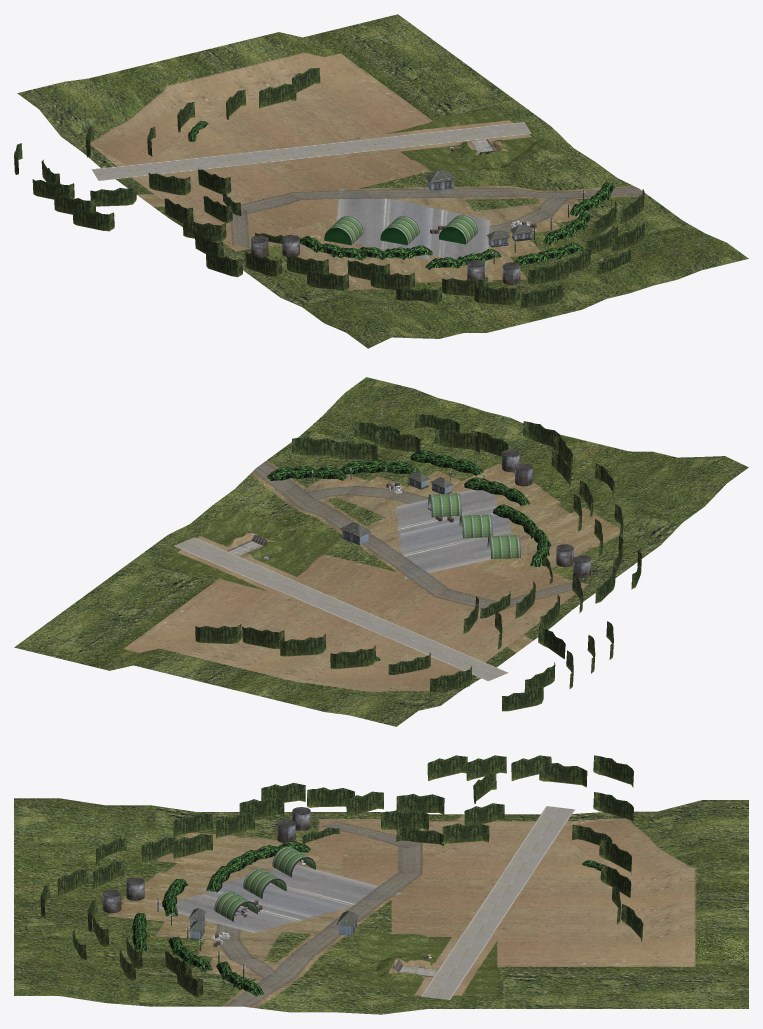
Rendered from menu.fbx.
The picture shows the model from 3 angles, top to bottom: view 1: azimuth 30°, elevation 25°; view 2: azimuth 150°, elevation 25°; view 3: azimuth 270°, elevation 25°; orthographic projection. The views are drawn at different scales.
Visible parts, largest first — view 1: Плоскость.039, Плоскость, Плоскость.001, Плоскость.041, Плоскость.002, Цилиндр.002, Цилиндр.004, Цилиндр.003, Плоскость.018, Плоскость.050, Плоскость.049, Плоскость.017 (+20 smaller); view 2: Плоскость.039, Плоскость, Плоскость.001, Плоскость.002, Плоскость.041, Плоскость.004, Плоскость.003, Плоскость.005, Плоскость.011, Плоскость.035, Плоскость.008, Плоскость.009 (+12 smaller); view 3: Плоскость.039, Плоскость, Плоскость.001, Плоскость.002, Плоскость.041, Плоскость.043, Плоскость.016, Плоскость.015, Плоскость.027, Плоскость.025, Плоскость.044, Плоскость.046 (+28 smaller).
Part boxes in pixels (<box>): Плоскость.039: <box>17,14,748,348</box>; Плоскость: <box>378,108,558,174</box>; Плоскость.001: <box>378,122,531,149</box>; Плоскость.041: <box>91,153,244,180</box>; Плоскость.002: <box>236,138,386,165</box>; Цилиндр.002: <box>439,215,477,244</box>; Цилиндр.004: <box>324,216,363,245</box>; Цилиндр.003: <box>380,216,419,245</box>; Плоскость.018: <box>474,286,520,305</box>; Плоскость.050: <box>90,185,136,206</box>; Плоскость.049: <box>72,208,114,231</box>; Плоскость.017: <box>148,173,190,195</box>; Плоскость.039: <box>14,377,748,726</box>; Плоскость: <box>160,507,340,592</box>; Плоскость.001: <box>174,537,299,591</box>; Плоскость.002: <box>280,582,404,636</box>; Плоскость.041: <box>383,627,508,681</box>; Плоскость.004: <box>267,466,347,480</box>; Плоскость.003: <box>339,460,420,474</box>; Плоскость.005: <box>410,450,483,475</box>; Плоскость.011: <box>331,441,377,460</box>; Плоскость.035: <box>195,624,241,643</box>; Плоскость.008: <box>464,477,529,506</box>; Плоскость.009: <box>375,430,420,451</box>; Плоскость.039: <box>14,798,748,1014</box>; Плоскость: <box>359,929,497,995</box>; Плоскость.001: <box>421,933,492,999</box>; Плоскость.002: <box>463,869,533,936</box>; Плоскость.041: <box>504,806,574,873</box>; Плоскость.043: <box>539,763,587,787</box>; Плоскость.016: <box>442,823,489,844</box>; Плоскость.015: <box>381,810,428,830</box>; Плоскость.027: <box>396,793,444,814</box>; Плоскость.025: <box>307,787,354,807</box>; Плоскость.044: <box>593,755,633,787</box>; Плоскость.046: <box>466,755,506,780</box>.
Bounding box in the file's own units: 40432 × 5034 × 53437.
